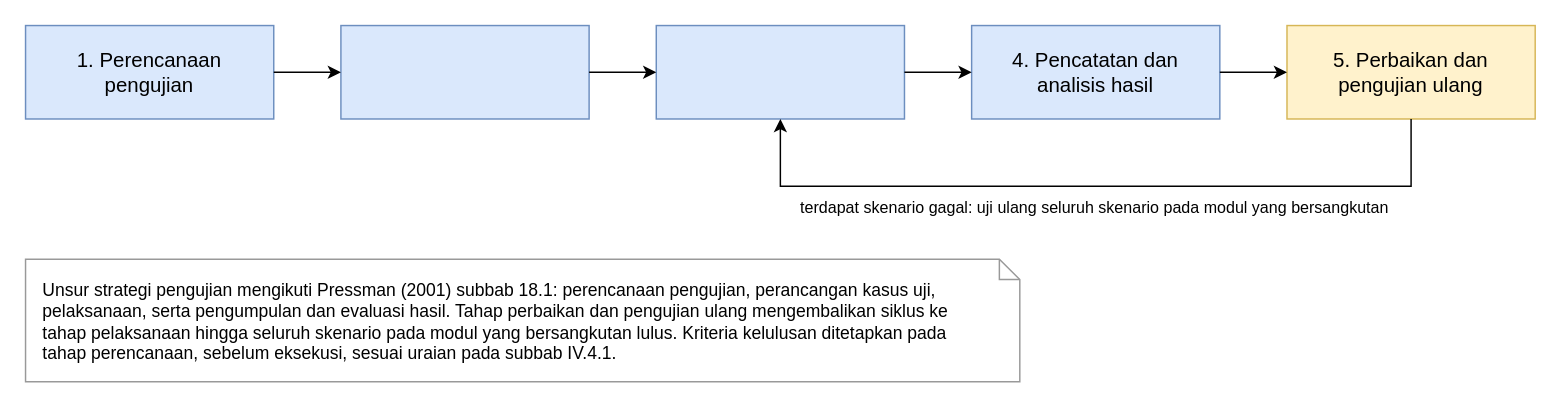
The diagram is 1561 pixels wide and 407 high, and some of its shapes have lost their labels. Each missing label, with the box of its shape:
2. Penyusunan skenario uji: (339, 24, 589, 119)
3. Pelaksanaan pengujian: (655, 24, 904, 119)
